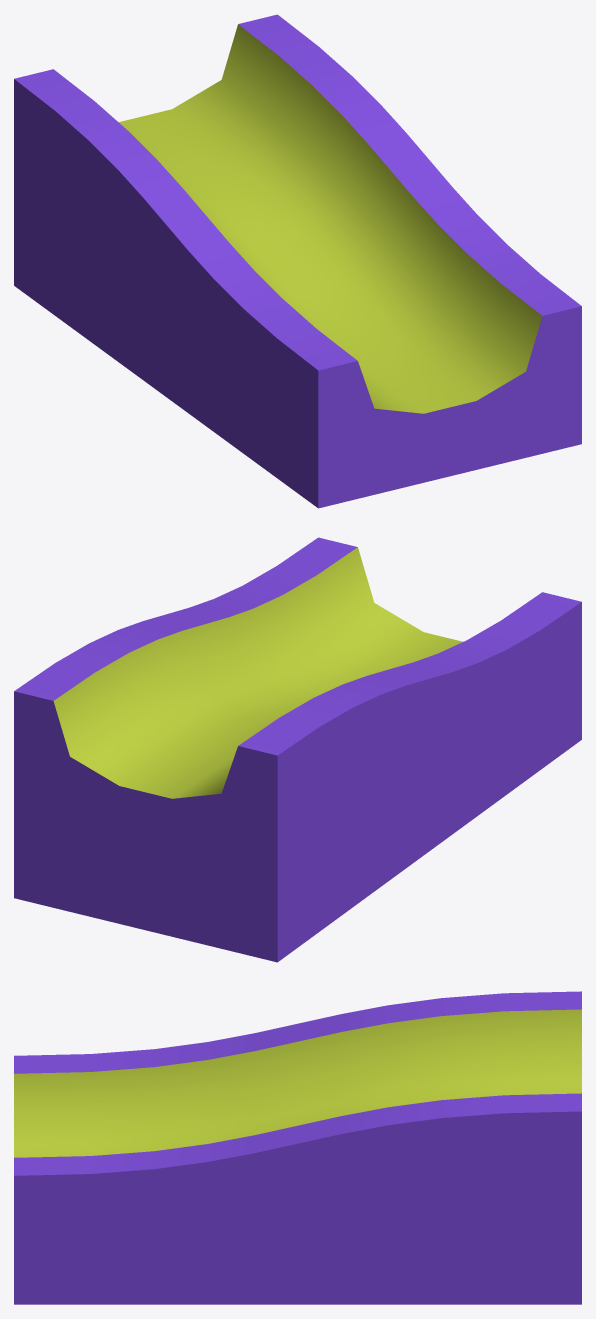
File: ramp_long_solid_A-col.dae
3 views of the same model, one above another, from view 1: azimuth 30°, elevation 25°; view 2: azimuth 150°, elevation 25°; view 3: azimuth 270°, elevation 25° (orthographic). The views are drawn at different scales.
Visible parts, largest first — view 1: ramp_long_solid_A-col; view 2: ramp_long_solid_A-col; view 3: ramp_long_solid_A-col.
Part boxes in pixels (<box>): ramp_long_solid_A-col: <box>14,14,581,508</box>; ramp_long_solid_A-col: <box>14,537,581,962</box>; ramp_long_solid_A-col: <box>14,991,581,1304</box>.
Bounding box in the file's own units: 1 × 2 × 0.75.
